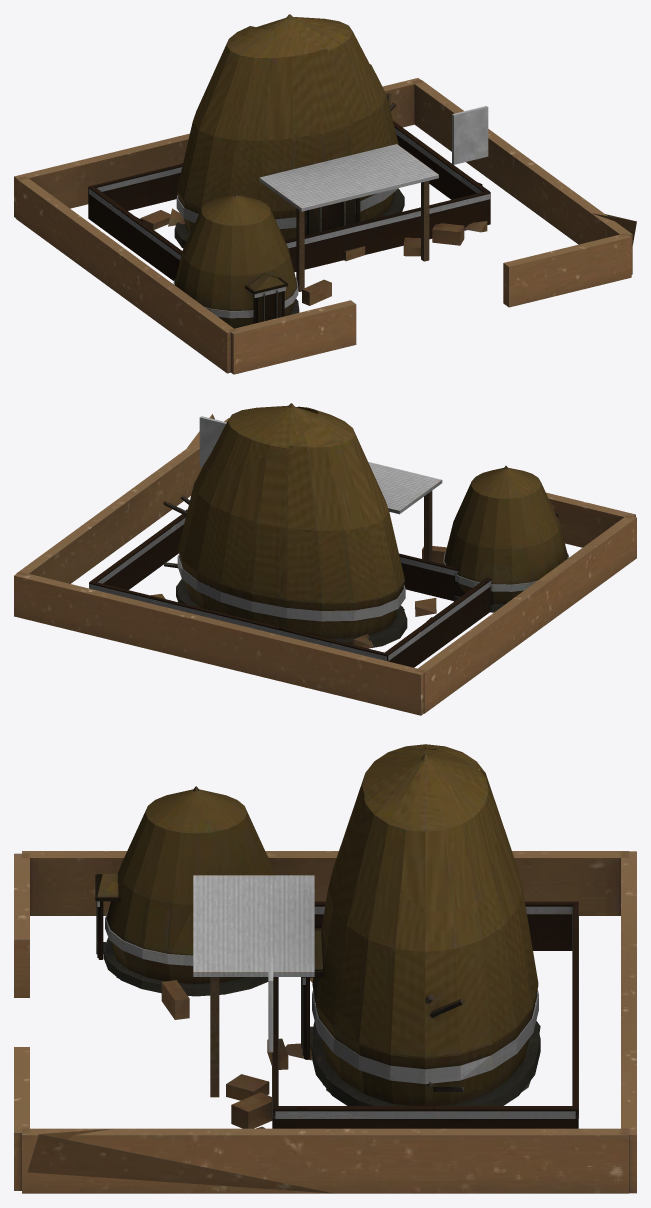
File: civic-bronze-eastafrica.glb
3 views of the same model, one above another, from view 1: azimuth 30°, elevation 25°; view 2: azimuth 150°, elevation 25°; view 3: azimuth 270°, elevation 25° (orthographic). The views are drawn at different scales.
Parts seen in each view (by area): view 1: LOD0, LOD0.001, LOD0.002; view 2: LOD0, LOD0.001, LOD0.002; view 3: LOD0, LOD0.001, LOD0.002.
Part boxes in pixels (x1,y1,x2,y2): LOD0: (14,14,632,374); LOD0.001: (14,26,630,305); LOD0.002: (15,163,636,373); LOD0: (14,403,636,715); LOD0.001: (14,406,532,715); LOD0.002: (123,414,602,710); LOD0: (14,749,636,1193); LOD0.001: (22,744,636,1193); LOD0.002: (27,852,634,1193).
Size of what is drawn, in the model's own units: 1.93 by 0.92 by 1.75.
2 materials, 2 textured.
